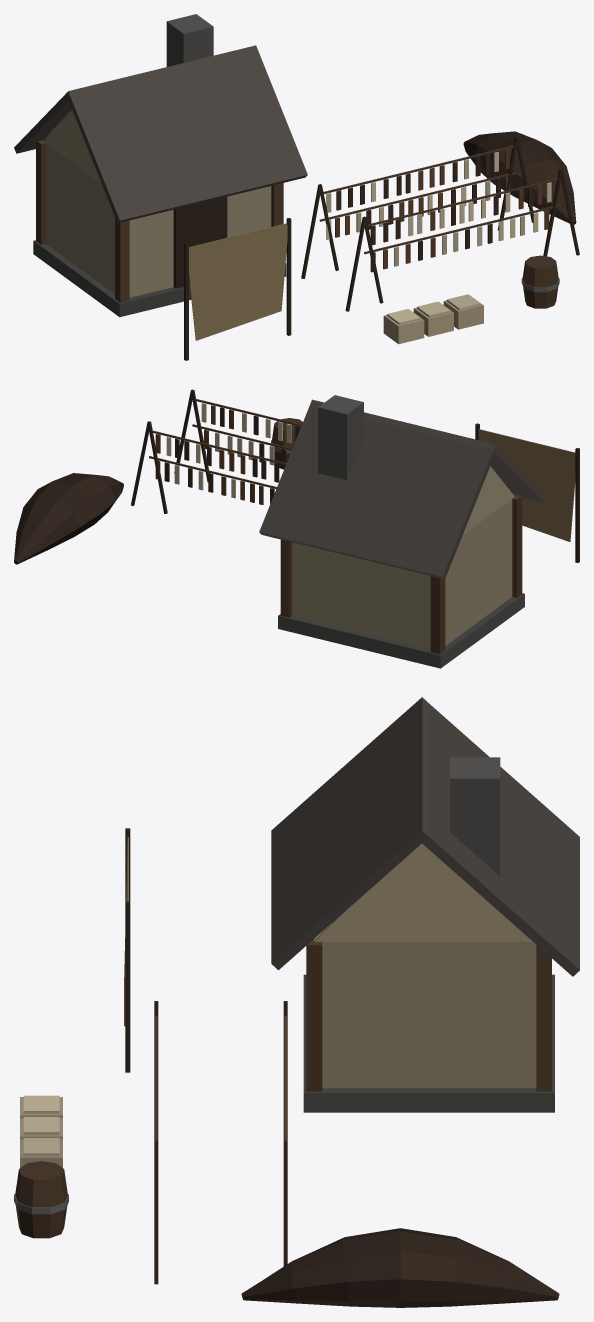
The model's file is walk_hallowed_fishery.glb.
The picture shows the model from 3 angles, top to bottom: view 1: azimuth 30°, elevation 25°; view 2: azimuth 150°, elevation 25°; view 3: azimuth 270°, elevation 25°; orthographic projection. The views are drawn at different scales.
Visible parts, largest first — view 1: walk_hallowed_fishery, walk_hallowed_fishery_roof; view 2: walk_hallowed_fishery, walk_hallowed_fishery_roof; view 3: walk_hallowed_fishery, walk_hallowed_fishery_roof.
Boxes of the visible parts, x1=… form: walk_hallowed_fishery: x1=33, y1=110, x2=579, y2=360; walk_hallowed_fishery_roof: x1=14, y1=14, x2=307, y2=223; walk_hallowed_fishery: x1=14, y1=389, x2=579, y2=668; walk_hallowed_fishery_roof: x1=259, y1=395, x2=545, y2=579; walk_hallowed_fishery: x1=14, y1=828, x2=559, y2=1307; walk_hallowed_fishery_roof: x1=271, y1=697, x2=579, y2=976.
Size of what is drawn, in the model's own units: 11.15 by 4.9 by 7.88.
Materials: 2 (2 with a texture image).
